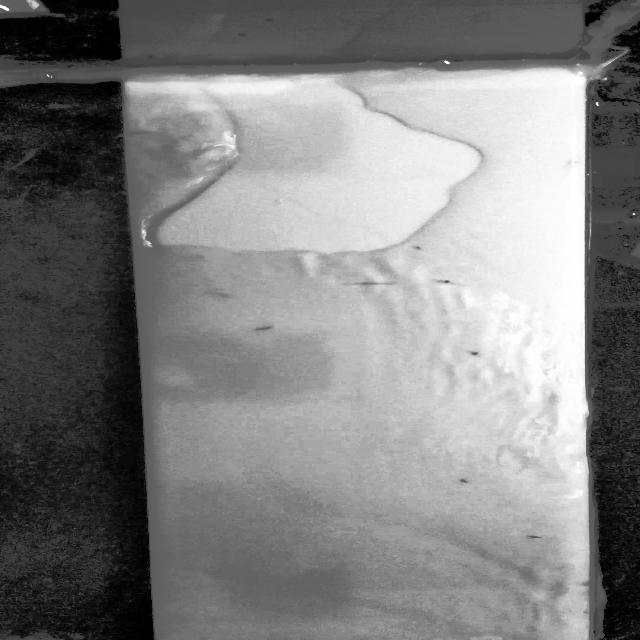shrimp: (452, 346, 492, 362), (516, 526, 544, 546), (428, 273, 462, 289), (454, 472, 481, 492), (408, 240, 434, 257), (248, 322, 278, 336)
